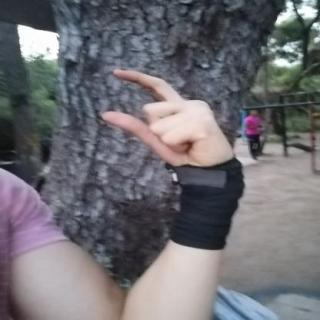DELL: (88, 62, 242, 175)
